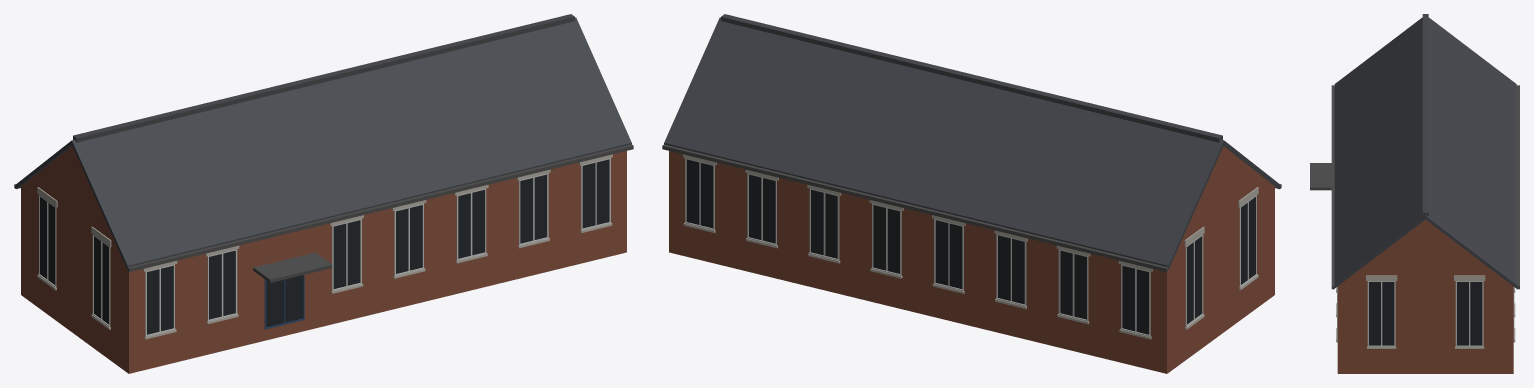
The model's file is context.school.board_school_brick.glb.
3 renders of one model, left to right at view 1: azimuth 30°, elevation 25°; view 2: azimuth 150°, elevation 25°; view 3: azimuth 270°, elevation 25°, orthographic. The views are drawn at different scales.
Parts seen in each view (by area): view 1: main__tile_445, main__brick_854, main__paint_223, main__paint_ccc, main__steel_555, main__tile_444, main__brick_bba; view 2: main__tile_445, main__brick_854, main__paint_223, main__paint_ccc, main__tile_444, main__steel_555, main__brick_bba; view 3: main__tile_445, main__brick_854, main__paint_223, main__steel_555, main__tile_444, main__paint_ccc, main__brick_bba.
Part boxes in pixels (x1,y1,x2,y2): main__tile_445: [16, 17, 631, 269]; main__brick_854: [21, 146, 626, 373]; main__paint_223: [40, 159, 609, 334]; main__paint_ccc: [38, 158, 611, 336]; main__steel_555: [14, 144, 633, 282]; main__tile_444: [73, 14, 574, 142]; main__brick_bba: [37, 154, 612, 339]; main__tile_445: [664, 17, 1279, 269]; main__brick_854: [669, 146, 1274, 373]; main__paint_223: [686, 159, 1255, 334]; main__paint_ccc: [684, 158, 1257, 336]; main__tile_444: [721, 14, 1222, 142]; main__steel_555: [662, 144, 1281, 272]; main__brick_bba: [683, 154, 1258, 339]; main__tile_445: [1334, 17, 1516, 288]; main__brick_854: [1337, 219, 1513, 373]; main__paint_223: [1369, 282, 1482, 345]; main__steel_555: [1310, 85, 1519, 289]; main__tile_444: [1422, 14, 1428, 216]; main__paint_ccc: [1336, 281, 1514, 346]; main__brick_bba: [1336, 275, 1515, 348].
Bounding box in the file's own units: 24.3 × 9.1 × 10.71.
